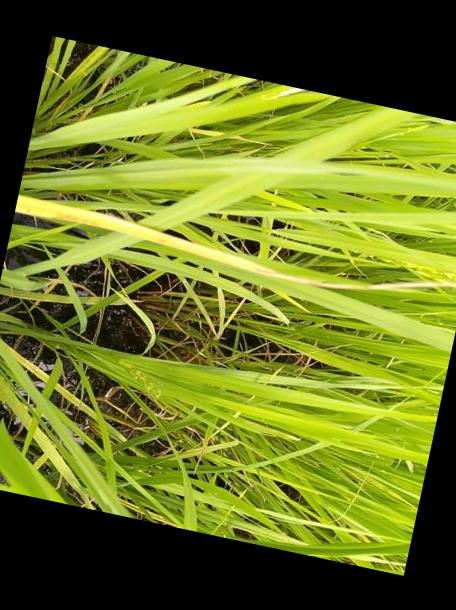Leaf Blight: (15, 192, 433, 290)
